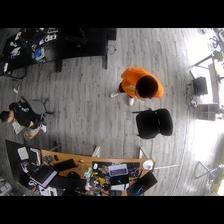normal: (1, 93, 52, 143), (108, 61, 164, 105)
